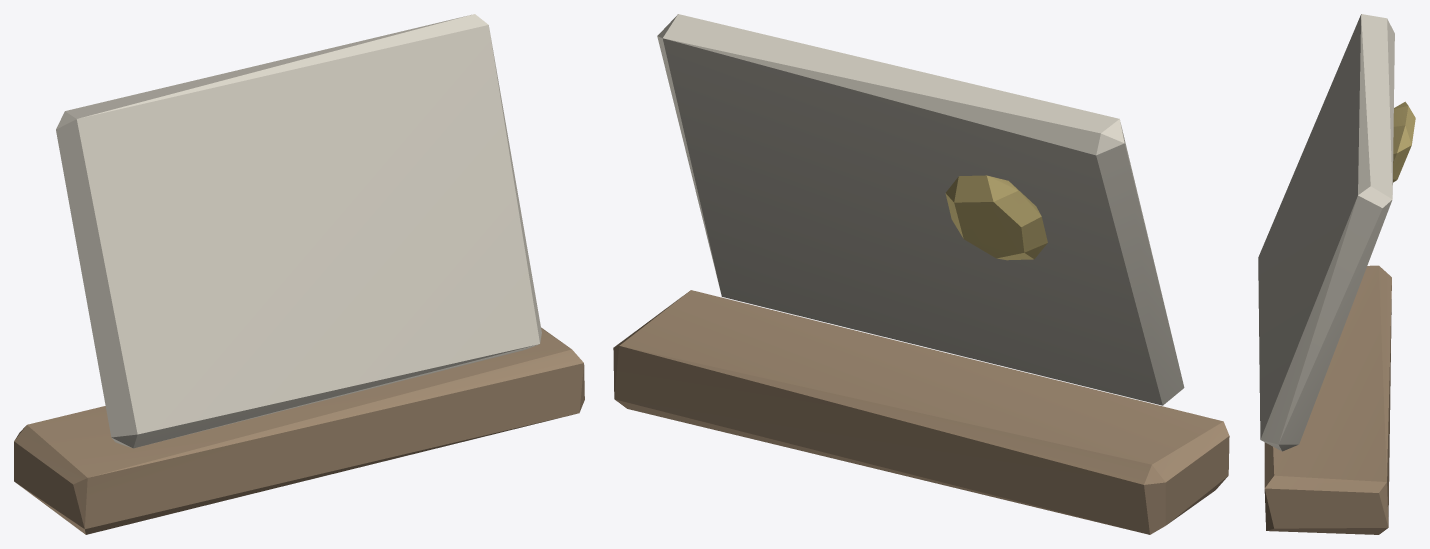
File: shop_price_stand_low.glb
3 views of the same model, side by side, from view 1: azimuth 30°, elevation 25°; view 2: azimuth 150°, elevation 25°; view 3: azimuth 270°, elevation 25° (orthographic). The views are drawn at different scales.
Size of the model in its own units: 0.24 by 0.1671 by 0.0722.
